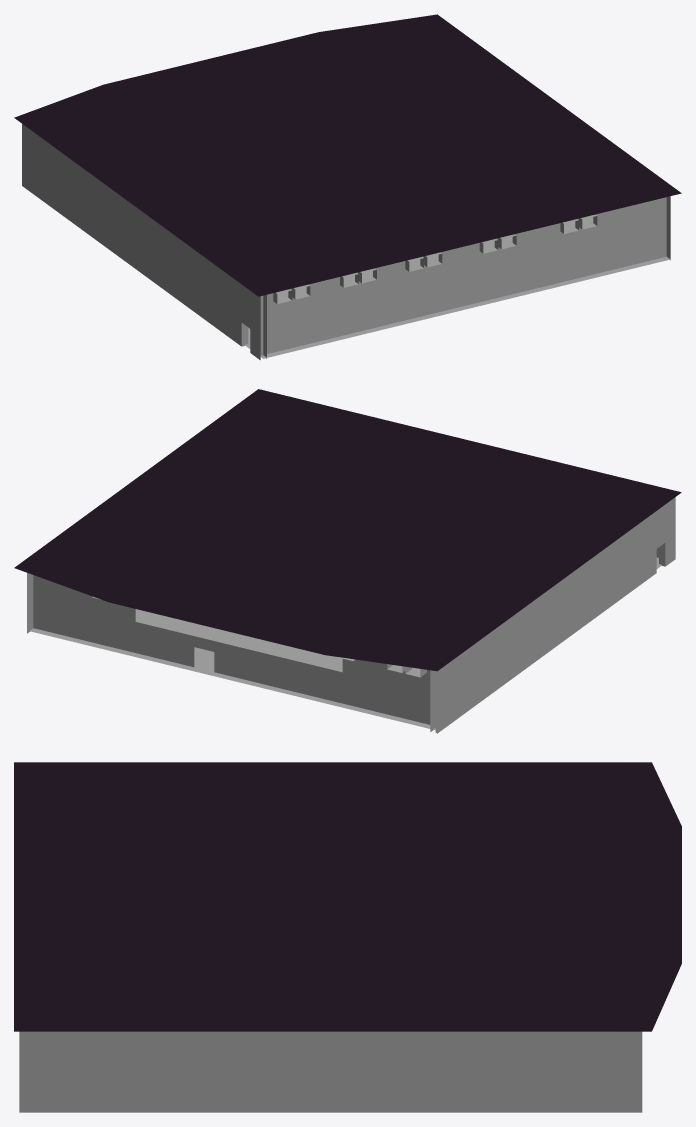
Rendered from complete_mapped.fbx.
3 views of the same model, one above another, from view 1: azimuth 30°, elevation 25°; view 2: azimuth 150°, elevation 25°; view 3: azimuth 270°, elevation 25° (orthographic). The views are drawn at different scales.
Parts seen in each view (by area): view 1: ceiling, outerwallsouth1, outerwall_west1, first_floor2; view 2: ceiling, outerwall_north1, outerwall_west1, first_floor2; view 3: ceiling, outerwall_east1.
Part boxes in pixels (left/top/right/bottom): ceiling: left=14, top=14, right=681, bottom=296; outerwallsouth1: left=260, top=197, right=666, bottom=355; outerwall_west1: left=22, top=124, right=266, bottom=360; first_floor2: left=245, top=217, right=670, bottom=358; ceiling: left=14, top=389, right=681, bottom=671; outerwall_north1: left=33, top=575, right=436, bottom=732; outerwall_west1: left=430, top=497, right=675, bottom=733; first_floor2: left=29, top=557, right=662, bottom=730; ceiling: left=14, top=762, right=681, bottom=1031; outerwall_east1: left=19, top=1031, right=642, bottom=1112.
Size of the model in its own units: 4196 by 629 by 4395.
